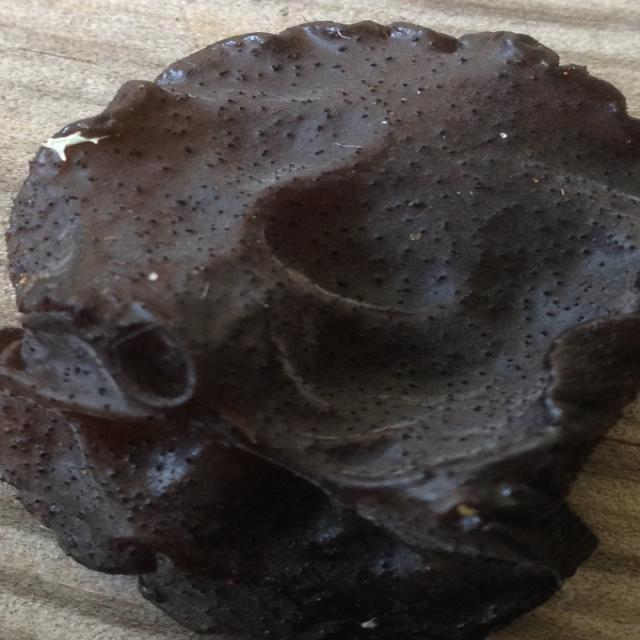Auricularia auricula: (4, 27, 640, 639)
